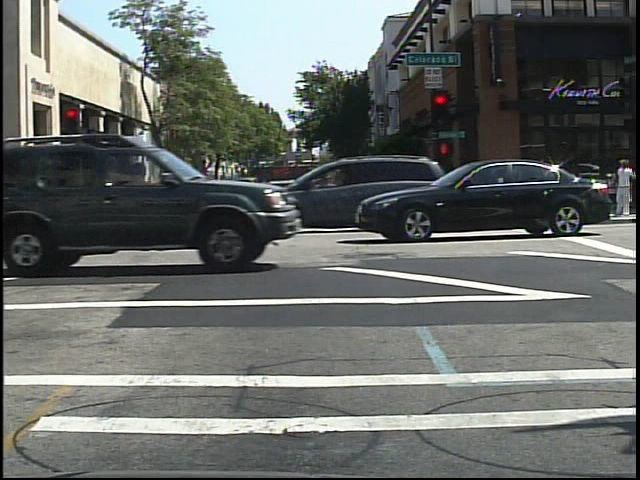person: (614, 155, 637, 219), (164, 180, 182, 220)
